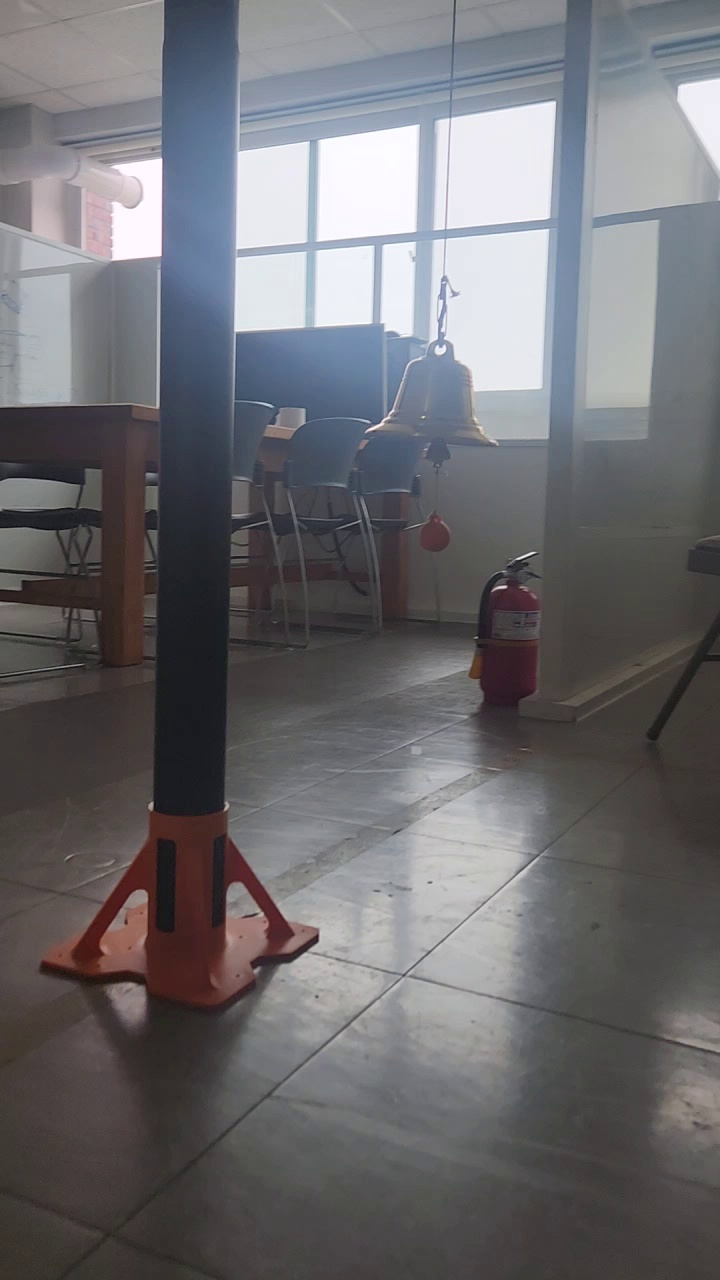bell: (364, 346, 504, 451)
pole: (148, 1, 241, 806)
